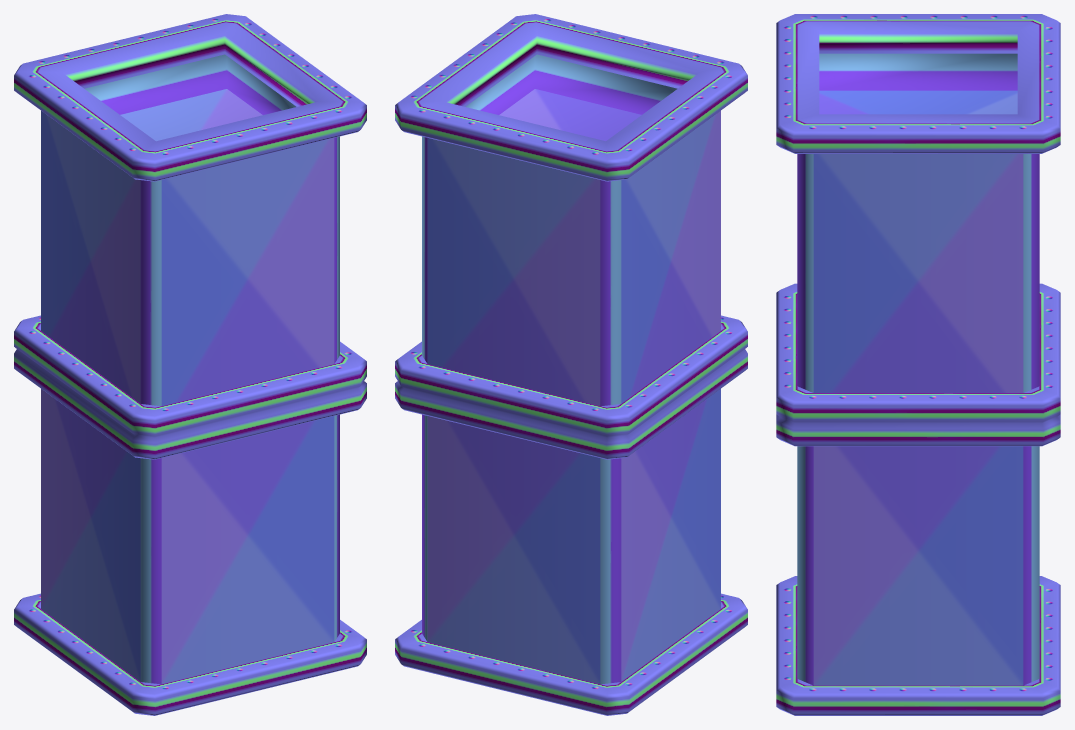
File: sm_ventilation_01.fbx
3 views of the same model, side by side, from view 1: azimuth 30°, elevation 25°; view 2: azimuth 150°, elevation 25°; view 3: azimuth 270°, elevation 25° (orthographic). The views are drawn at different scales.
Visible parts, largest first — view 1: sm_ventilation_01; view 2: sm_ventilation_01; view 3: sm_ventilation_01.
Part boxes in pixels (<box>): sm_ventilation_01: <box>14,14,366,715</box>; sm_ventilation_01: <box>395,14,747,715</box>; sm_ventilation_01: <box>776,14,1060,715</box>.
Size of the model in its own units: 176 by 400 by 176.
Materials: 1 (1 with a texture image).
